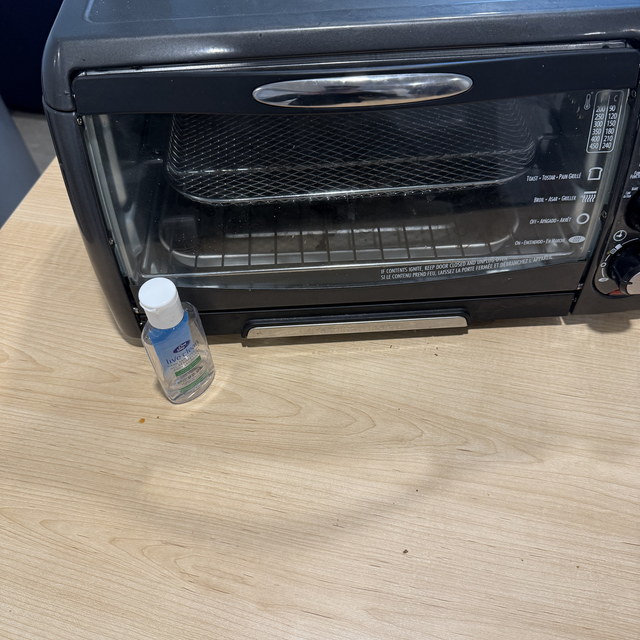Sanitizer: (139, 274, 221, 406)
Toaster Oven: (43, 0, 640, 320)
